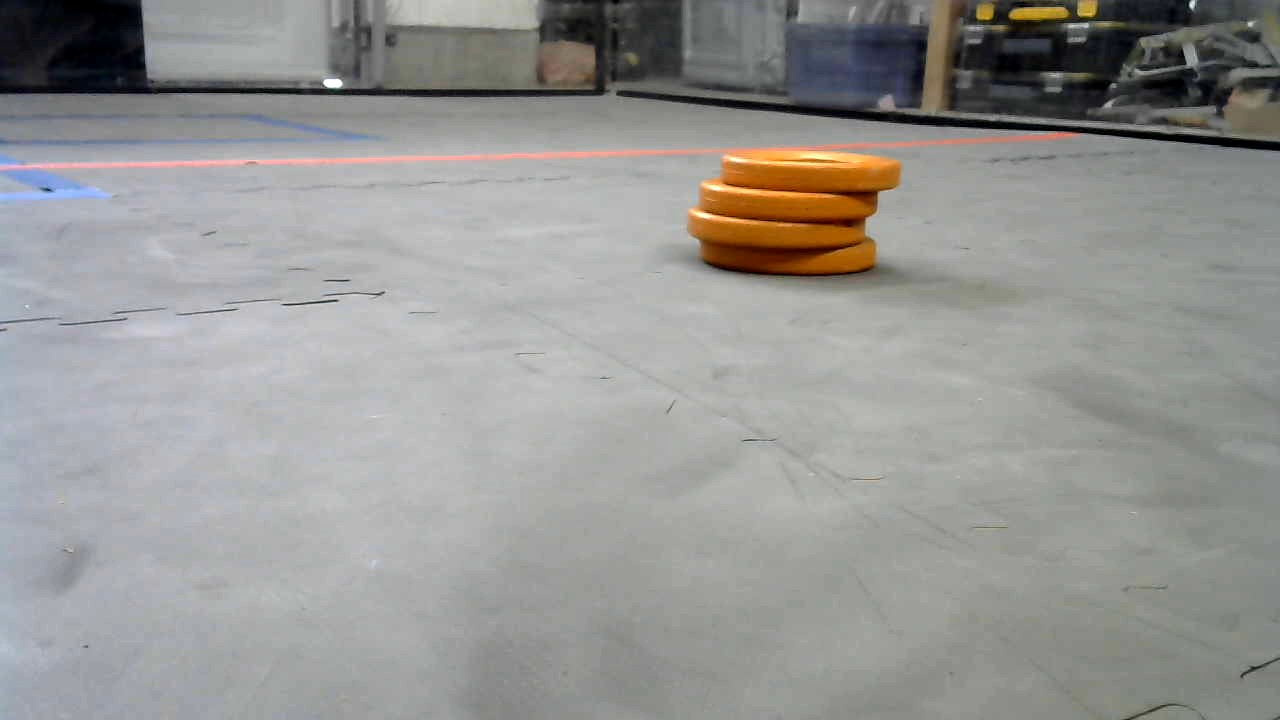FourStack: (685, 147, 905, 273)
